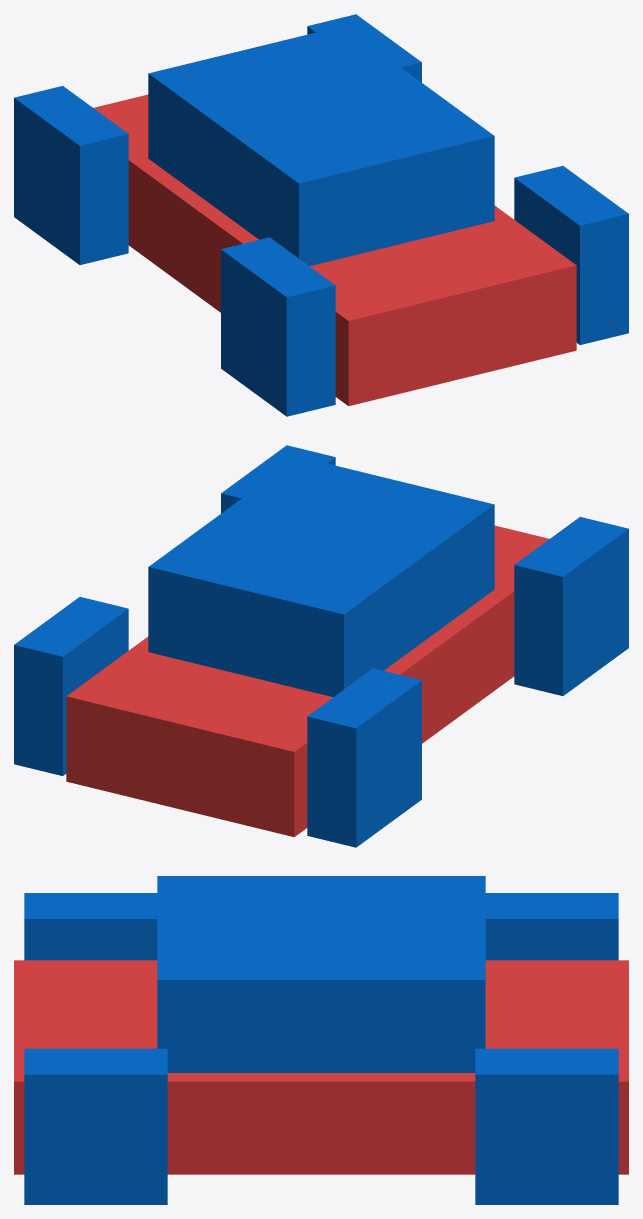
File: car_1.glb
The picture shows the model from 3 angles, top to bottom: view 1: azimuth 30°, elevation 25°; view 2: azimuth 150°, elevation 25°; view 3: azimuth 270°, elevation 25°; orthographic projection. The views are drawn at different scales.
Bounding box in the file's own units: 2.1 × 1 × 3.
